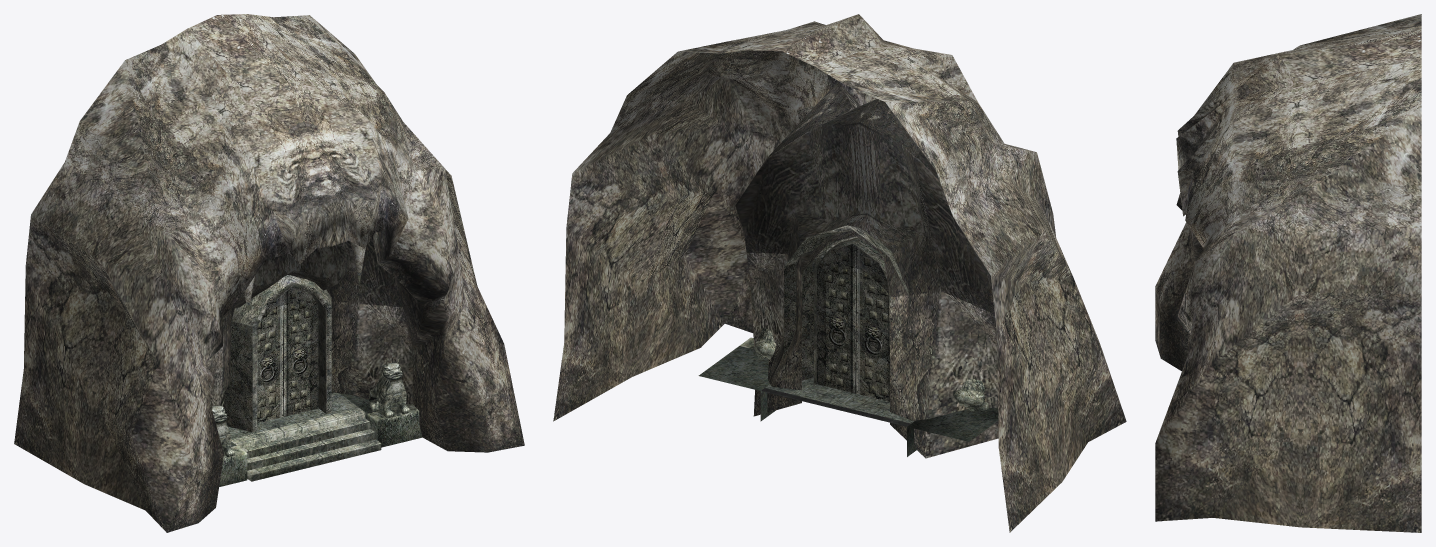
Rendered from ob-5-03-1thiefden.fbx.
3 views of the same model, side by side, from view 1: azimuth 30°, elevation 25°; view 2: azimuth 150°, elevation 25°; view 3: azimuth 270°, elevation 25° (orthographic). The views are drawn at different scales.
Visible parts, largest first — view 1: Box01; view 2: Box01; view 3: Box01.
Boxes of the visible parts, bbox=[...] form: Box01: bbox=[14, 14, 524, 532]; Box01: bbox=[553, 14, 1126, 532]; Box01: bbox=[1155, 14, 1421, 532].
Size of the model in its own units: 22.93 by 20.59 by 12.55.
